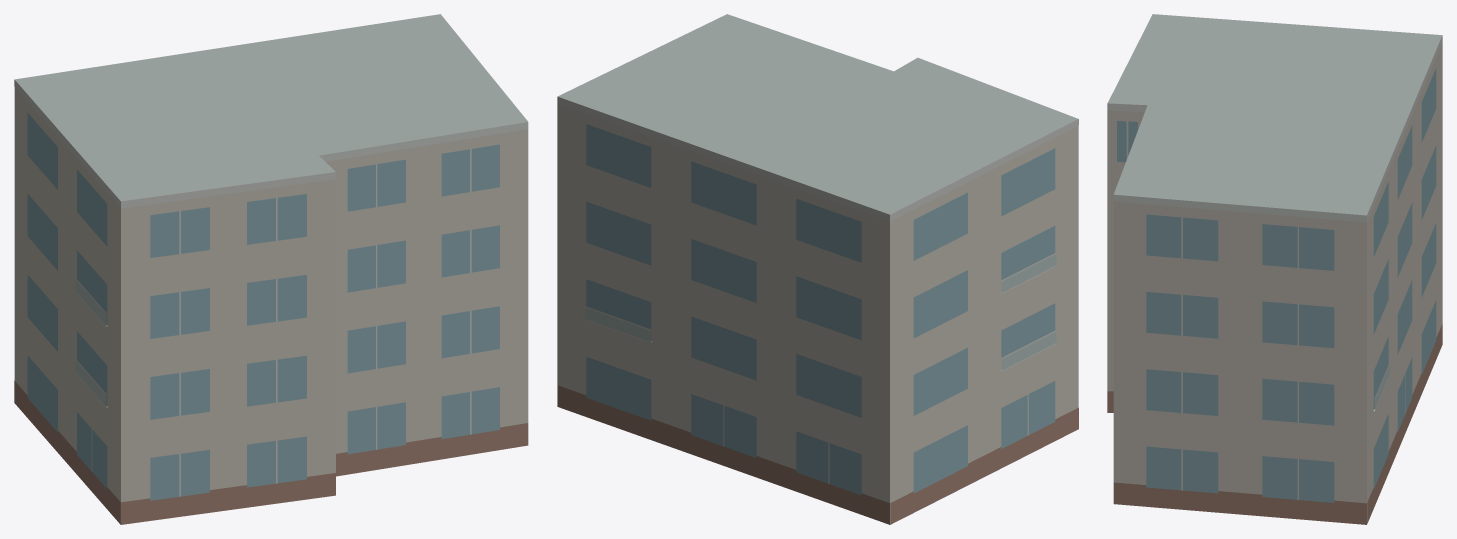
File: survey-upis-32752179.glb
The picture shows the model from 3 angles, left to right: view 1: azimuth 30°, elevation 25°; view 2: azimuth 150°, elevation 25°; view 3: azimuth 270°, elevation 25°; orthographic projection. The views are drawn at different scales.
Visible parts, largest first — view 1: survey-upis-32752179.tmp; view 2: survey-upis-32752179.tmp; view 3: survey-upis-32752179.tmp.
Boxes of the visible parts, x1,y1,x2,y2 form: survey-upis-32752179.tmp: [14, 14, 528, 524]; survey-upis-32752179.tmp: [557, 14, 1078, 524]; survey-upis-32752179.tmp: [1107, 14, 1442, 524].
Size of the model in its own units: 15.38 by 11 by 10.81.
